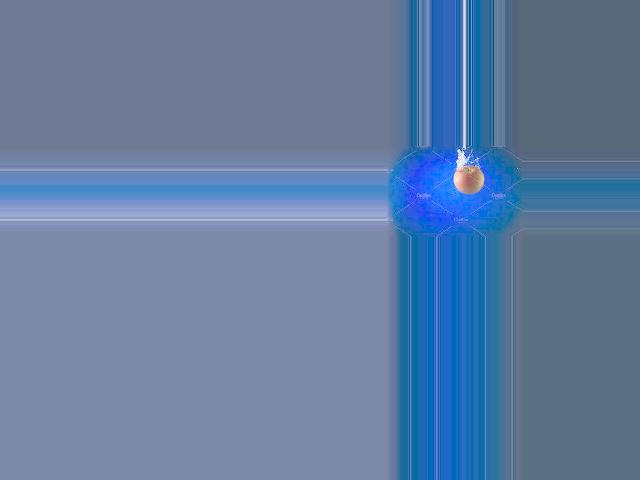tomato: (454, 165, 485, 193)
